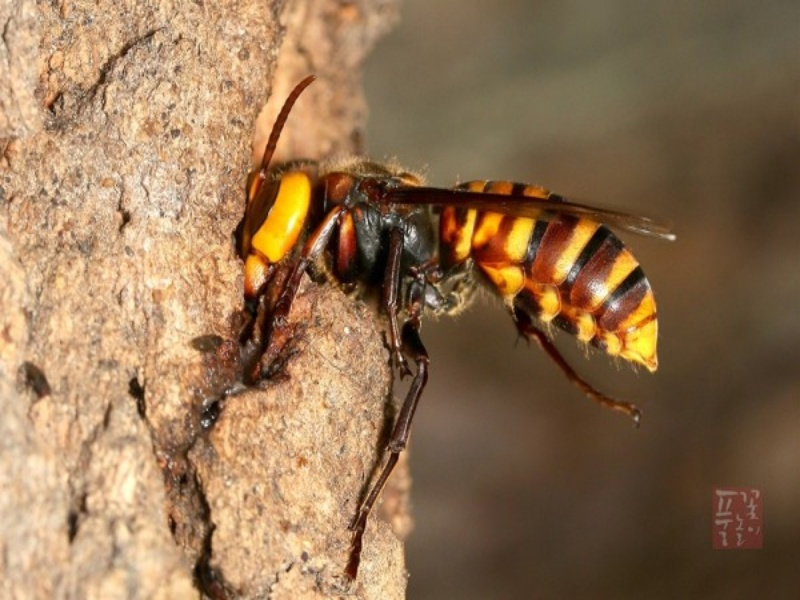asian_giant_hornet: (221, 63, 687, 429)
